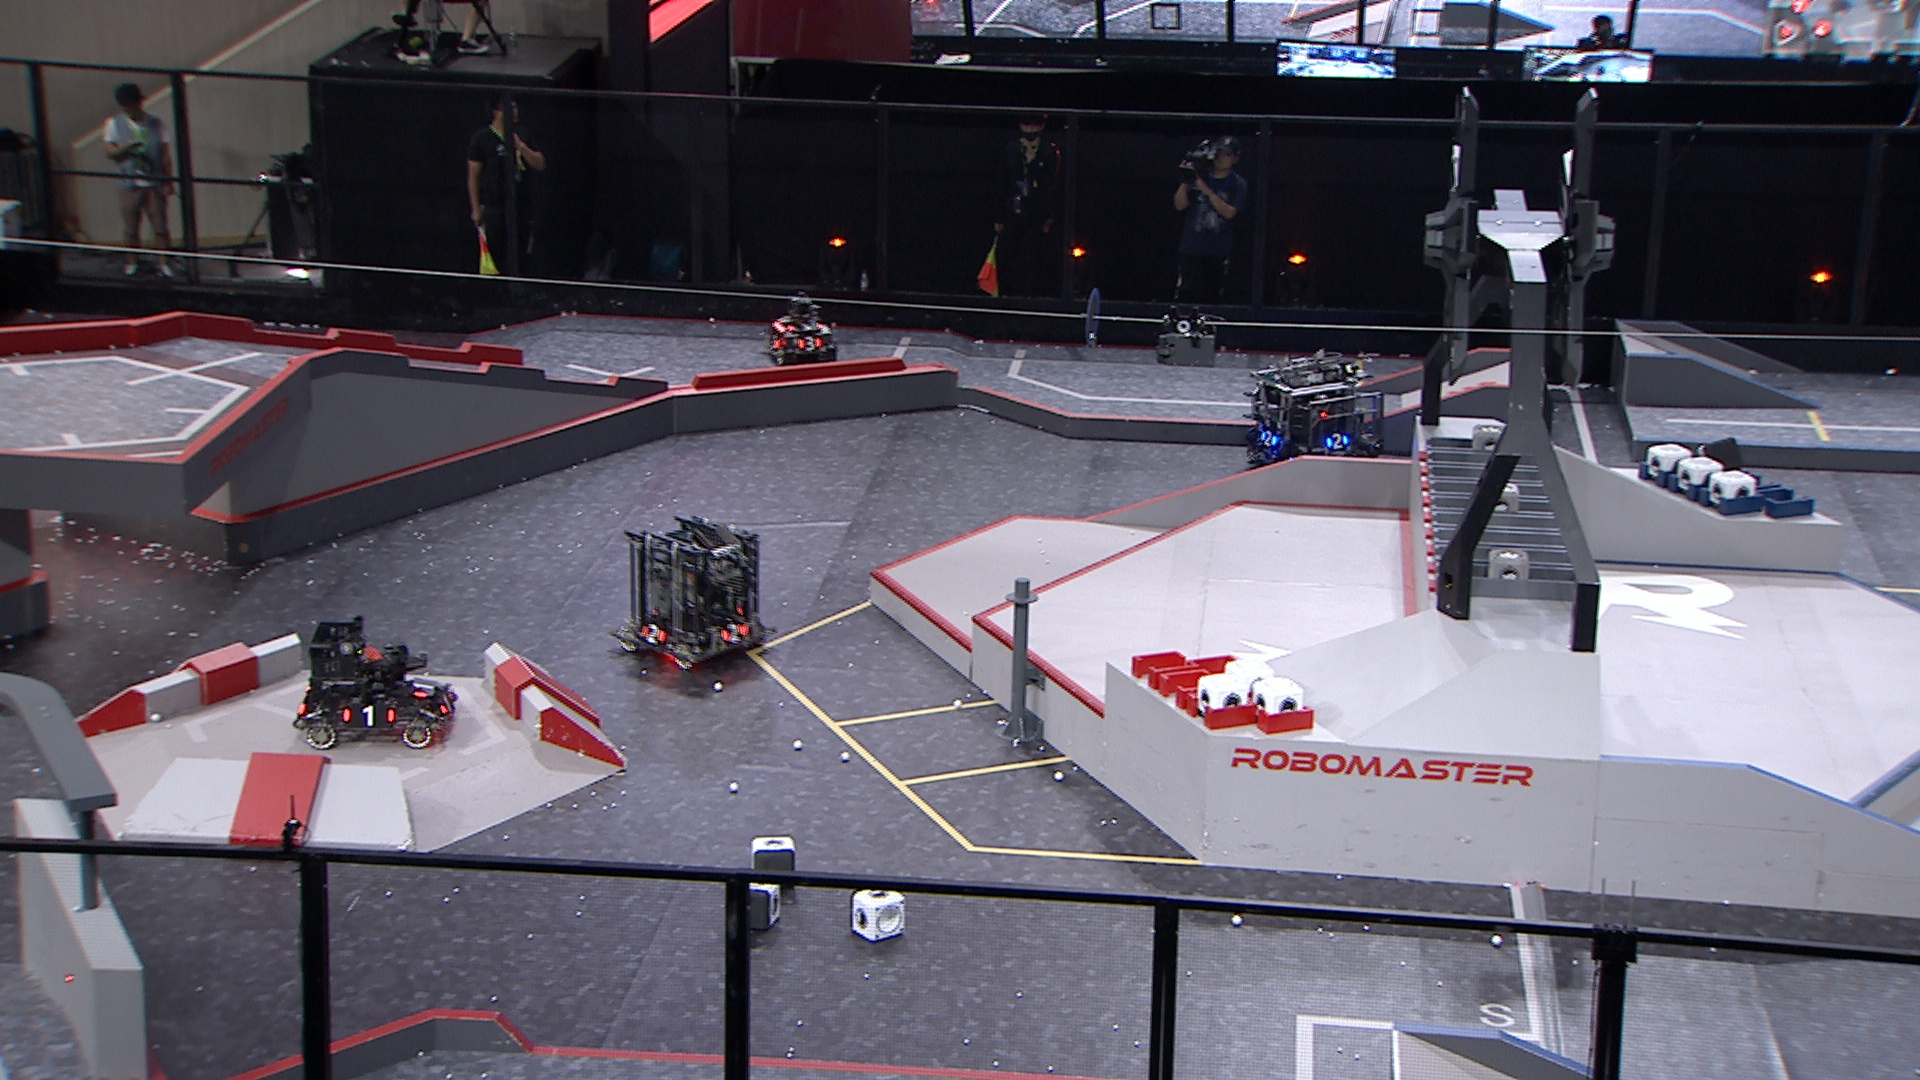armor: (343, 704, 394, 728), (407, 675, 434, 698), (721, 621, 749, 642), (1321, 433, 1352, 451), (436, 688, 456, 712), (1257, 427, 1278, 448), (642, 624, 666, 642), (796, 338, 822, 349), (790, 323, 822, 332), (769, 334, 782, 351)
car: (612, 513, 774, 669), (291, 613, 462, 754), (1244, 352, 1386, 488), (761, 294, 841, 371)
